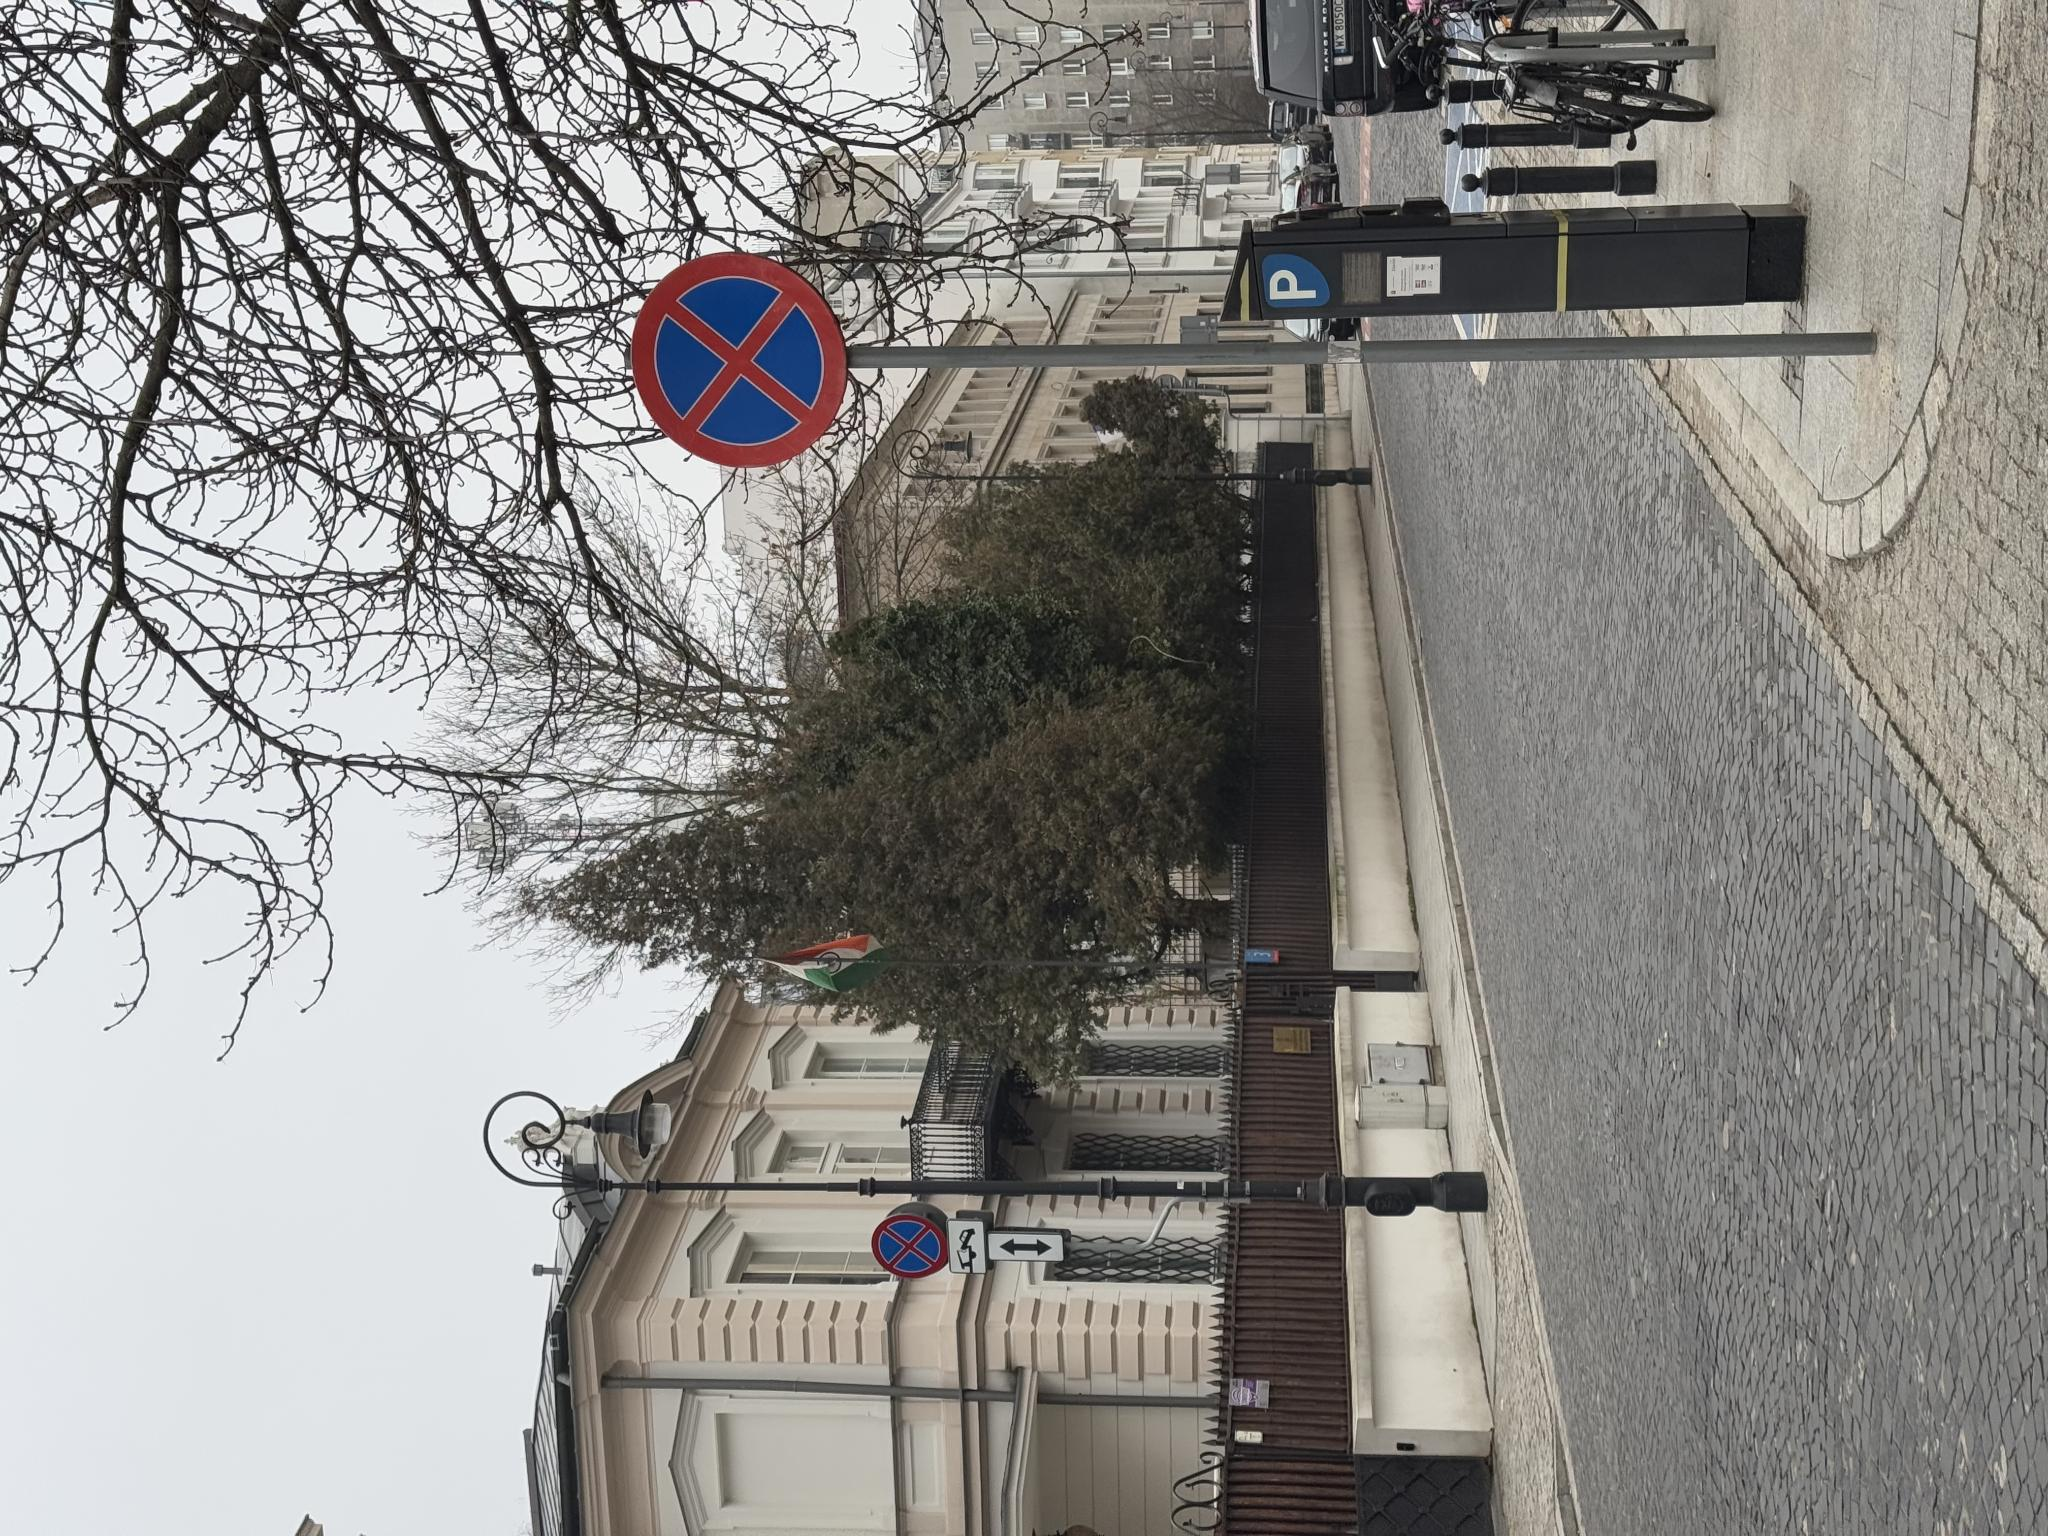other: (274, 989, 305, 1065), (261, 949, 318, 989)
prohibitory: (1066, 629, 1285, 850), (256, 871, 324, 949)
